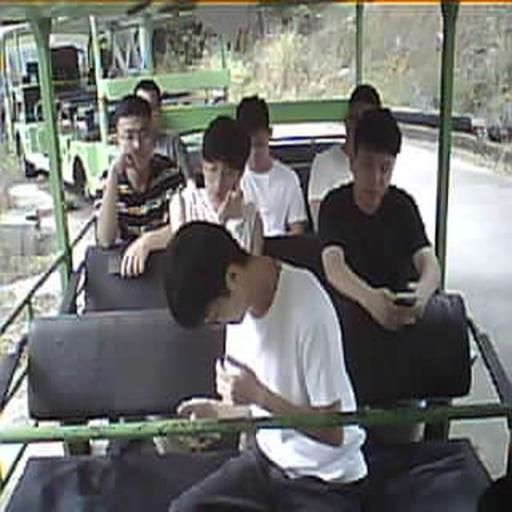persona: (164, 216, 371, 511), (317, 106, 442, 409), (96, 94, 186, 279), (168, 114, 265, 256), (235, 94, 310, 237), (308, 83, 382, 215), (128, 80, 190, 179)
